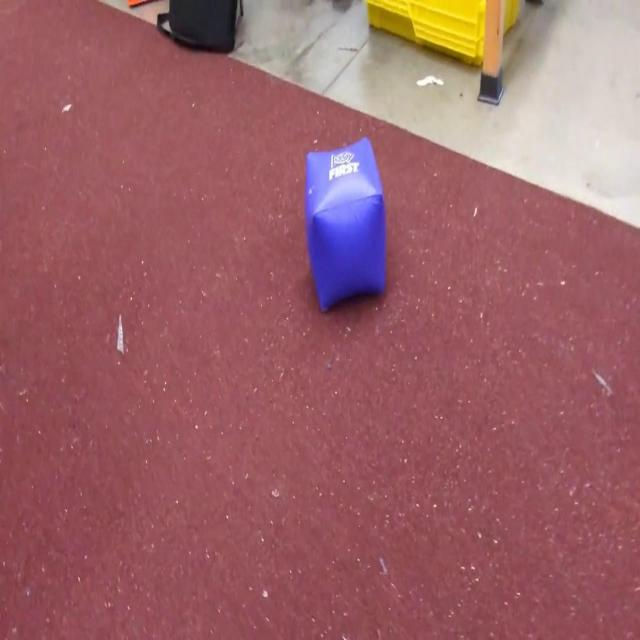frc_cube: (303, 135, 389, 317)
